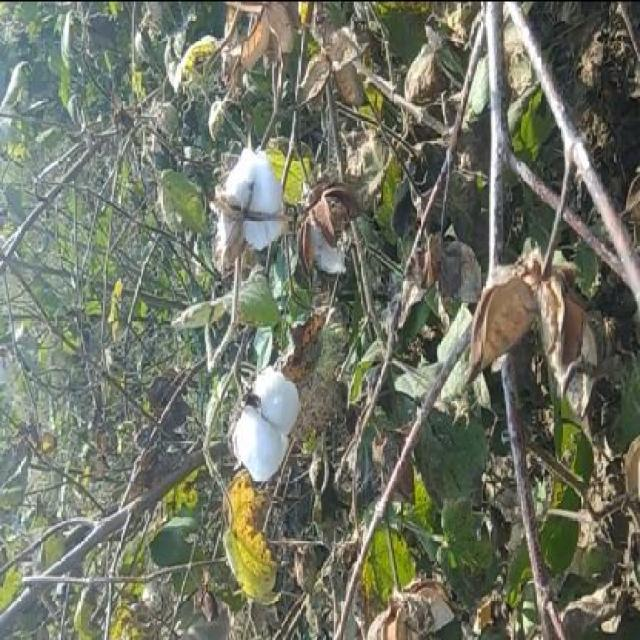cotton_ready: (211, 338, 315, 520), (206, 138, 286, 270)
